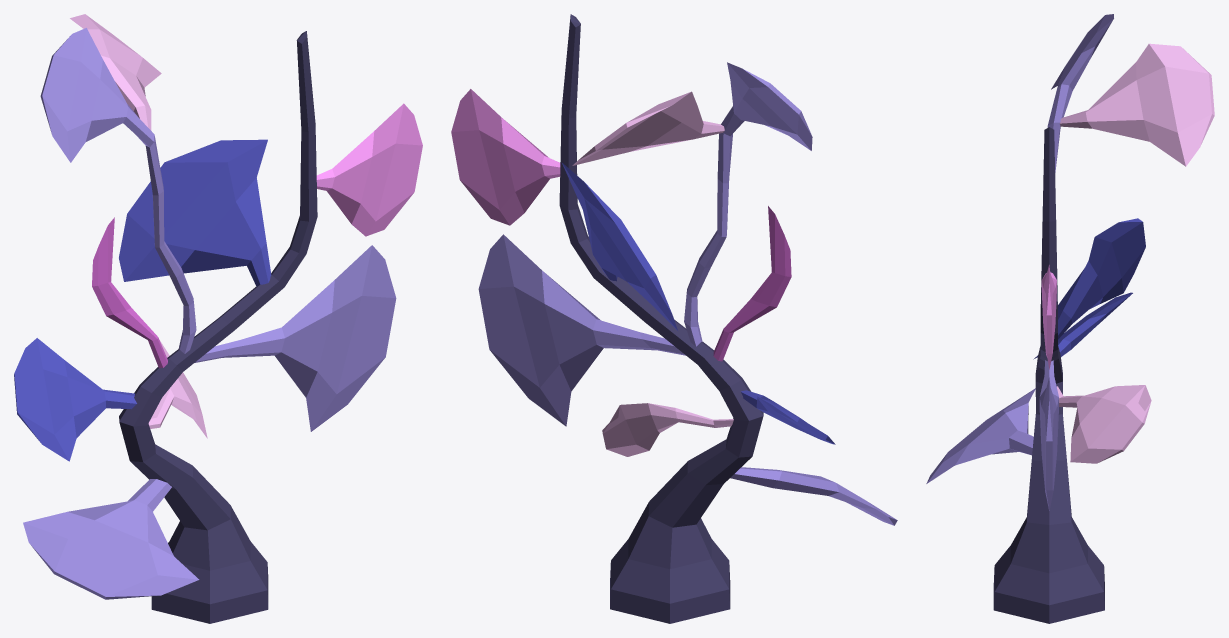
File: NC_Tree01.fbx
3 renders of one model, left to right at view 1: azimuth 30°, elevation 25°; view 2: azimuth 150°, elevation 25°; view 3: azimuth 270°, elevation 25°, orthographic. The views are drawn at different scales.
Parts seen in each view (by area): view 1: NC_Tree01; view 2: NC_Tree01; view 3: NC_Tree01.
Part boxes in pixels (x1,y1,x2,y2): NC_Tree01: (14, 14, 422, 623); NC_Tree01: (451, 14, 897, 623); NC_Tree01: (926, 14, 1214, 623).
Size of the model in its own units: 183 by 242 by 118.
Materials: 1 (1 with a texture image).
